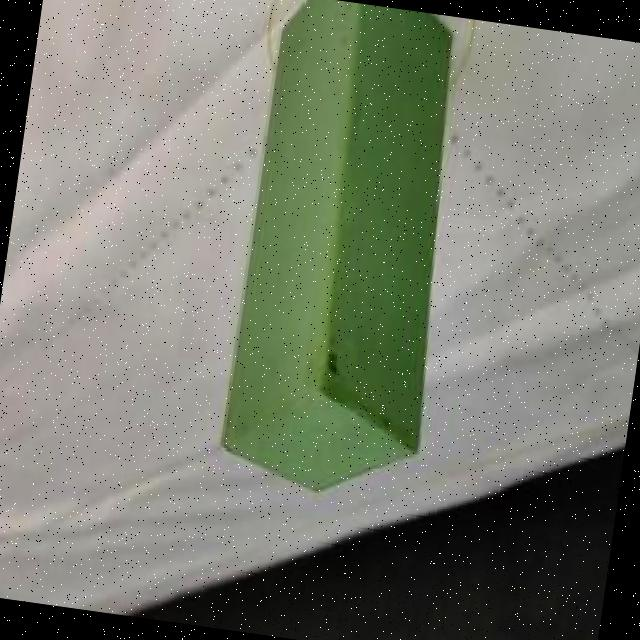greenbox: (209, 0, 480, 509)
